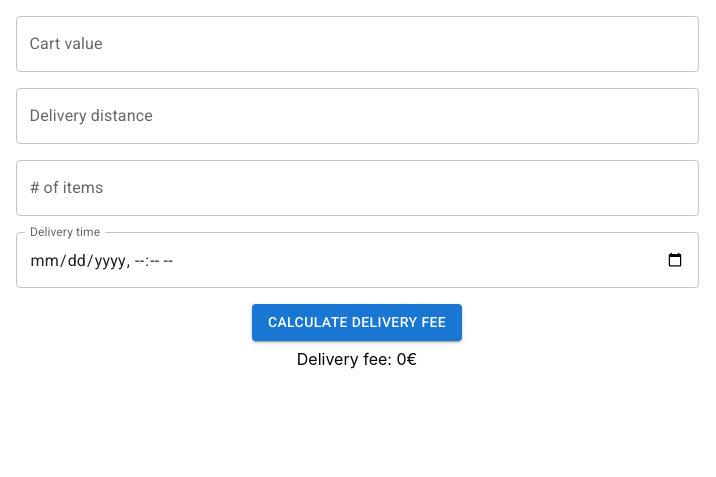
Scenario: input fields › field errors › field error texts when submitting empty form
Click the button "Calculate delivery fee": {"x": 357, "y": 322} [252,304,462,340]
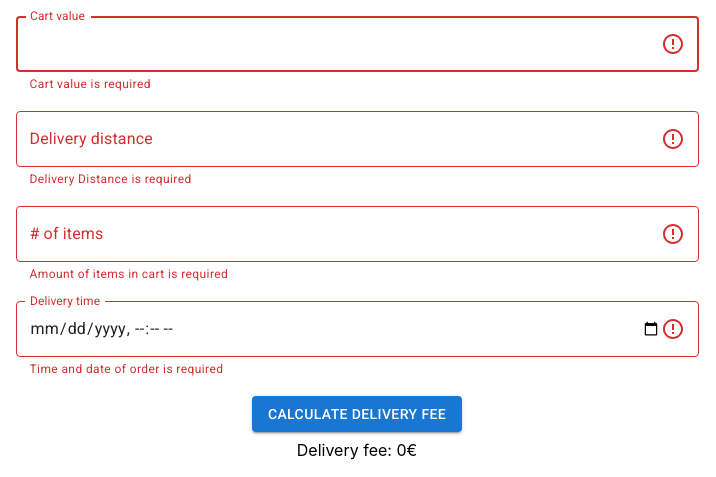
Expected: the text "Cart value is required" is shown, [30,77,151,91]
Expected: the text "Delivery Distance is required" is shown, [30,172,192,186]
Expected: the text "Amount of items in cart is required" is shown, [30,267,228,281]
